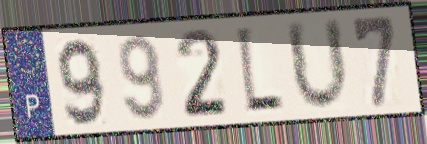2: (173, 26, 230, 119)
7: (349, 15, 399, 111)
9: (54, 34, 109, 127), (116, 31, 167, 123)
L: (232, 23, 287, 118)
U: (282, 15, 353, 115)
